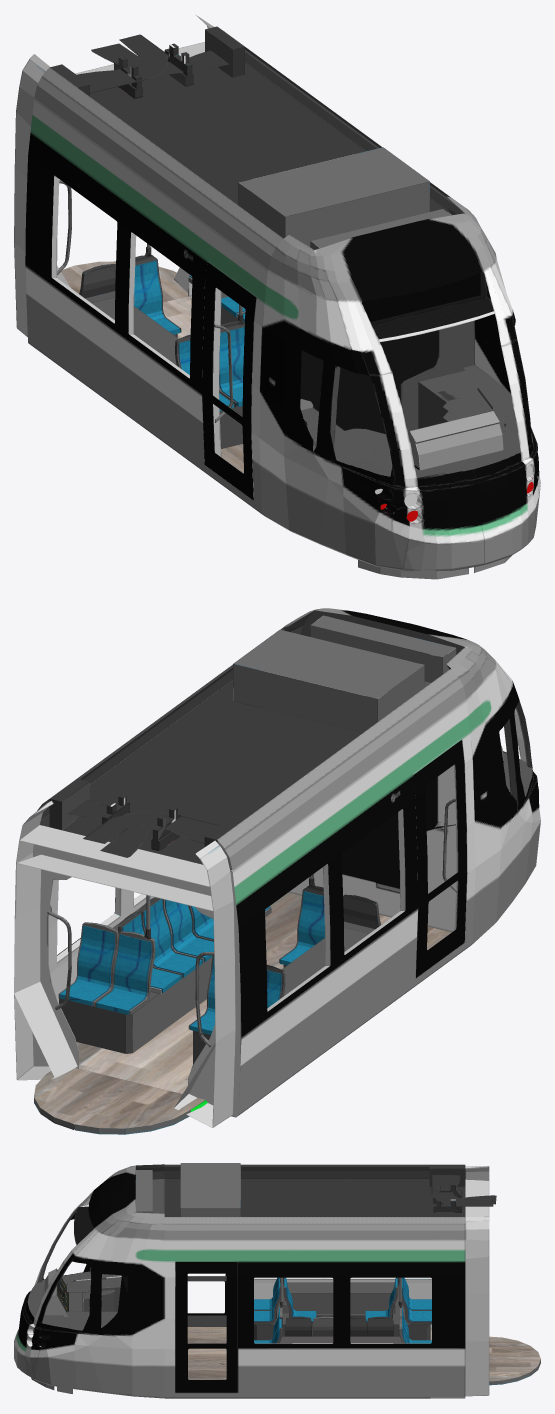
The model's file is forwardcaf.obj.
3 renders of one model, top to bottom at view 1: azimuth 30°, elevation 25°; view 2: azimuth 150°, elevation 25°; view 3: azimuth 270°, elevation 25°, orthographic. The views are drawn at different scales.
Parts seen in each view (by area): view 1: ext, int, extd, extint, intfloor, art1floor; view 2: ext, int, extint, art1floor, intfloor, extd; view 3: ext, int, extint, extd2, art1floor, intfloor, extd.
Part boxes in pixels (x1,y1,x2,y2): ext: (25,26,540,579); int: (51,175,507,499); extd: (202,262,256,500); extint: (14,15,213,337); intfloor: (163,296,243,473); art1floor: (61,261,187,302); ext: (37,608,540,1115); int: (32,740,503,1117); extint: (14,800,235,1127); art1floor: (34,1068,207,1134); intfloor: (76,892,464,1093); extd: (413,740,467,977); ext: (14,1163,496,1398); int: (43,1268,431,1343); extint: (465,1166,489,1396); extd2: (175,1262,237,1392); art1floor: (489,1336,540,1385); intfloor: (187,1327,431,1379); extd: (187,1274,226,1326).
Bounding box in the file's own units: 2.95 × 3.85 × 9.65.
10 materials, 10 textured.
